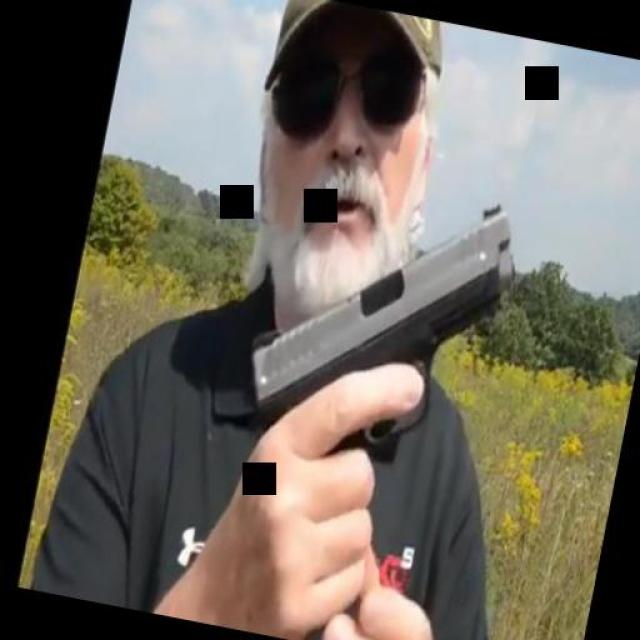gun: (206, 164, 530, 616)
